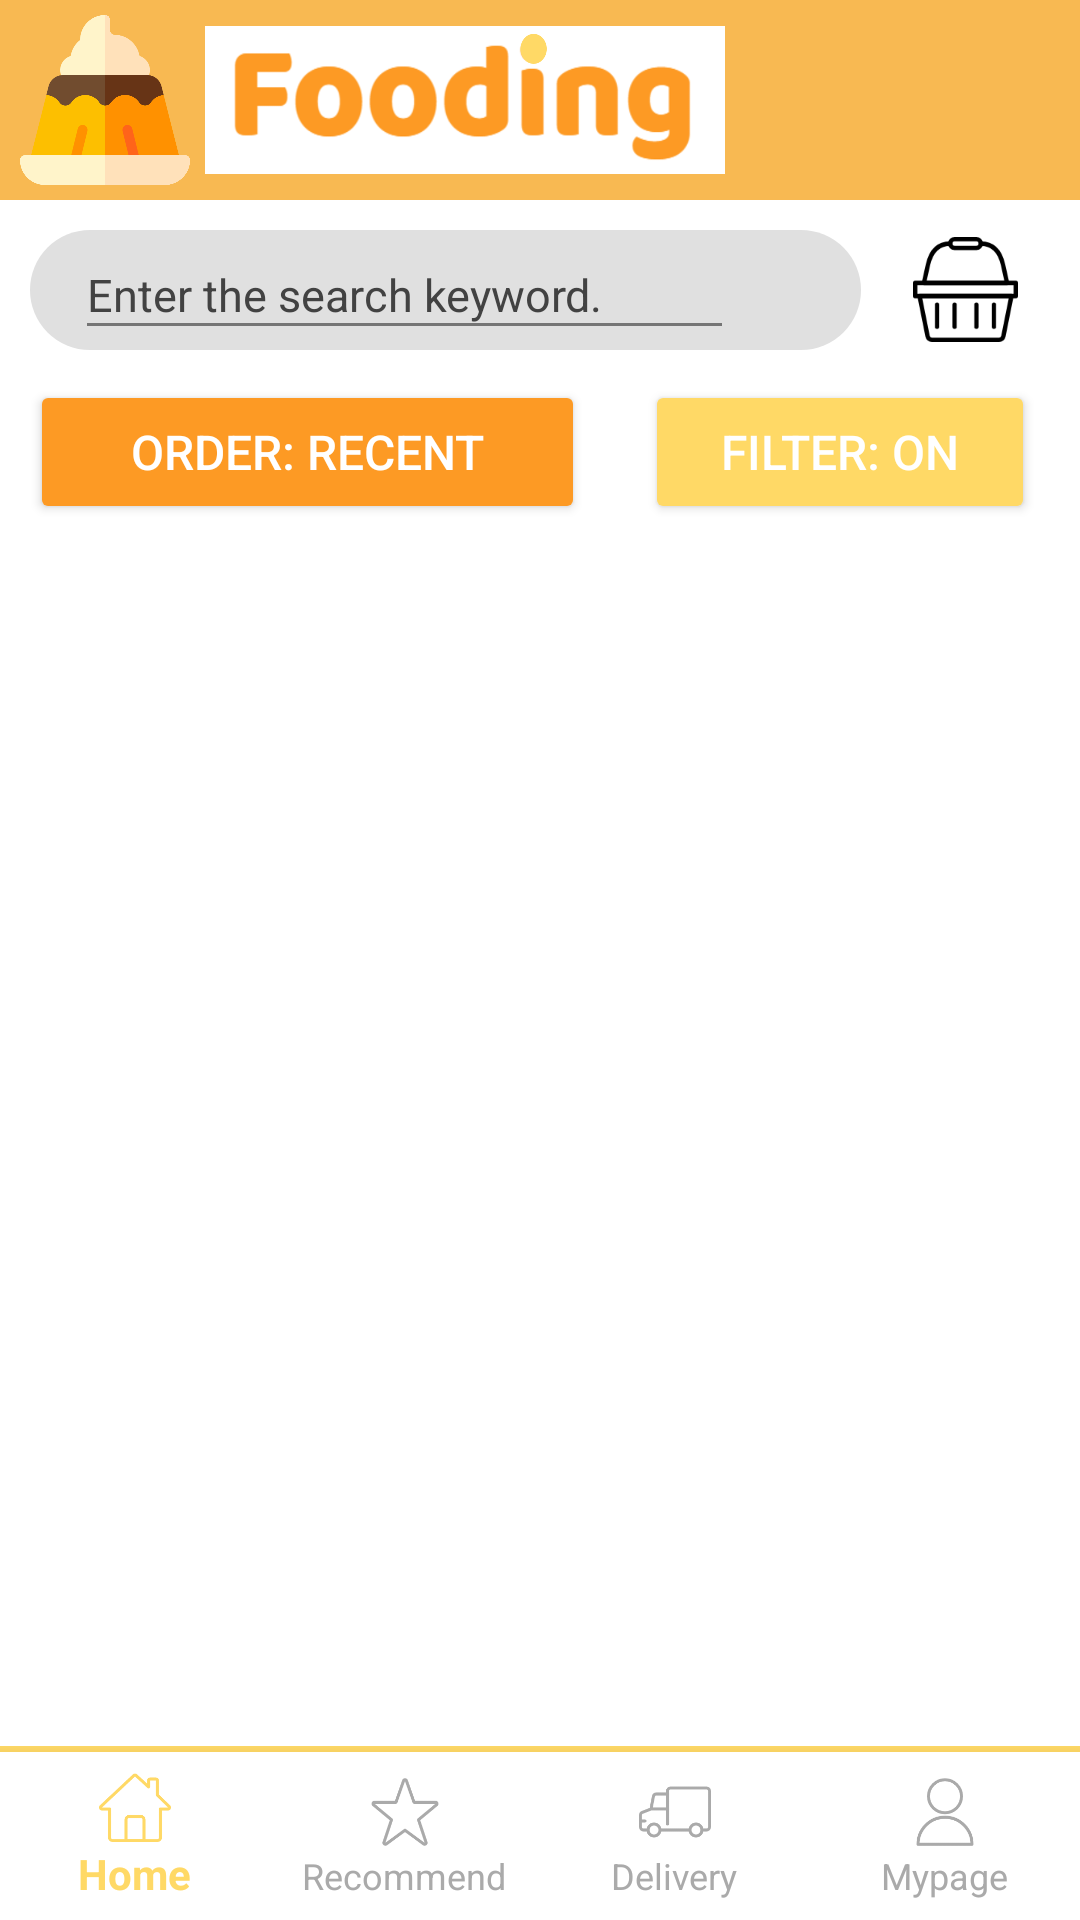

Icons on this 1080x1920 Android screen, each with its box as (x1, y1, x2, y2):
shoppingcart: (913, 237, 1018, 342)
